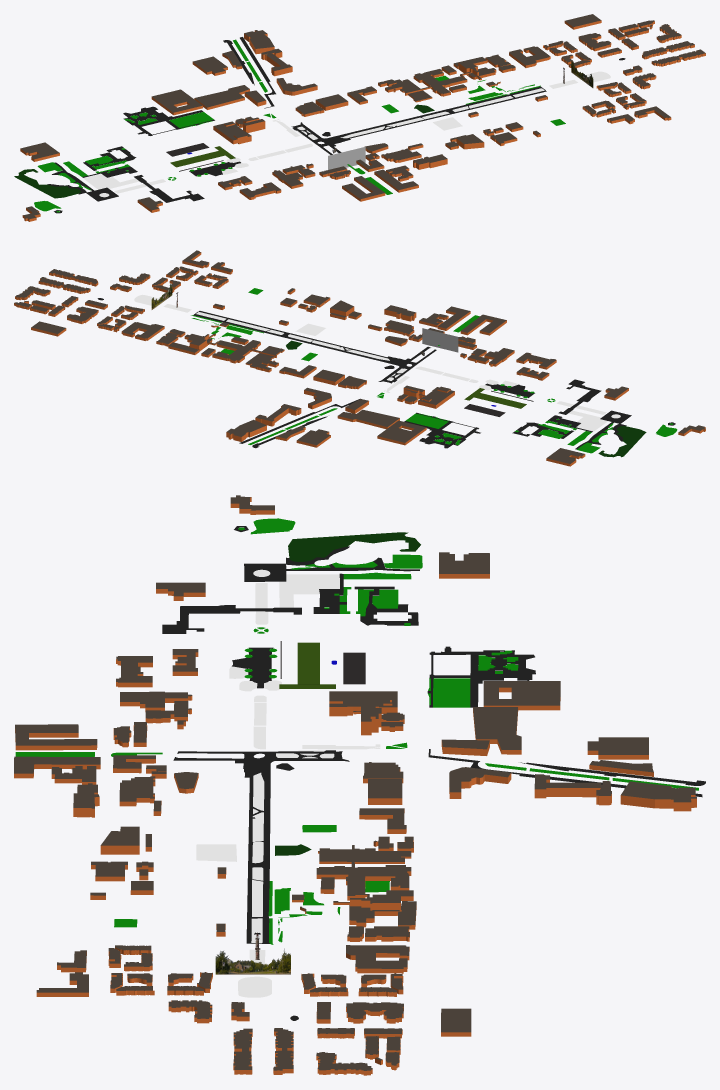
The model's file is MainMallOSM.obj.
3 views of the same model, one above another, from view 1: azimuth 30°, elevation 25°; view 2: azimuth 150°, elevation 25°; view 3: azimuth 270°, elevation 25° (orthographic). The views are drawn at different scales.
Parts seen in each view (by area): view 1: element_115_Scene.365, Old_Student_Union_Building__SUB__Scene.504, The_Nest__New_SUB__Scene.506, Civil_And_Mechanical_Engineering_Building_Scene.404, element_545_Scene.509, element_037_Scene.306, fountainWest_Scene.524, element_237_Scene.409, David_Strangway_Building_Scene.503, D_H__Copp_Building_Scene.502, Allard_Hall_Scene.303, element_017_Scene.321 (+16 smaller); view 2: element_115_Scene.365, Old_Student_Union_Building__SUB__Scene.504, The_Nest__New_SUB__Scene.506, Civil_And_Mechanical_Engineering_Building_Scene.404, element_545_Scene.509, fountainWest_Scene.524, element_037_Scene.306, David_Strangway_Building_Scene.503, D_H__Copp_Building_Scene.502, Allard_Hall_Scene.303, element_237_Scene.409, Hennings_Building_Scene.355 (+10 smaller); view 3: element_115_Scene.365, Old_Student_Union_Building__SUB__Scene.504, element_545_Scene.509, The_Nest__New_SUB__Scene.506, element_037_Scene.306, Civil_And_Mechanical_Engineering_Building_Scene.404, David_Strangway_Building_Scene.503, D_H__Copp_Building_Scene.502, War_Memorial_Gym_Scene.507, element_017_Scene.321, Civil_And_Mechanical_Lab_Scene.405, Allard_Hall_Scene.303 (+19 smaller).
Part boxes in pixels (box(x1,y1,x2,y2)): element_115_Scene.365: box(322, 86, 546, 146); Old_Student_Union_Building__SUB__Scene.504: box(151, 89, 202, 115); The_Nest__New_SUB__Scene.506: box(194, 85, 249, 109); Civil_And_Mechanical_Engineering_Building_Scene.404: box(413, 69, 467, 96); element_545_Scene.509: box(123, 106, 214, 135); element_037_Scene.306: box(14, 169, 80, 198); fountainWest_Scene.524: box(328, 146, 365, 169); element_237_Scene.409: box(509, 47, 550, 67); David_Strangway_Building_Scene.503: box(244, 30, 274, 54); D_H__Copp_Building_Scene.502: box(261, 48, 292, 76); Allard_Hall_Scene.303: box(20, 142, 59, 161); element_017_Scene.321: box(83, 174, 139, 189); element_115_Scene.365: box(193, 311, 410, 366); Old_Student_Union_Building__SUB__Scene.504: box(377, 420, 426, 445); The_Nest__New_SUB__Scene.506: box(337, 409, 399, 429); Civil_And_Mechanical_Engineering_Building_Scene.404: box(212, 340, 260, 363); element_545_Scene.509: box(416, 412, 480, 448); fountainWest_Scene.524: box(422, 328, 458, 352); element_037_Scene.306: box(598, 426, 646, 457); David_Strangway_Building_Scene.503: box(226, 419, 266, 441); D_H__Copp_Building_Scene.502: box(255, 404, 301, 426); Allard_Hall_Scene.303: box(546, 448, 585, 466); element_237_Scene.409: box(122, 322, 164, 340); Hennings_Building_Scene.355: box(418, 387, 454, 408); element_115_Scene.365: box(235, 760, 273, 943); Old_Student_Union_Building__SUB__Scene.504: box(483, 681, 560, 710); element_545_Scene.509: box(427, 646, 535, 707); The_Nest__New_SUB__Scene.506: box(473, 707, 521, 754); element_037_Scene.306: box(288, 532, 420, 561); Civil_And_Mechanical_Engineering_Building_Scene.404: box(316, 865, 411, 900); David_Strangway_Building_Scene.503: box(620, 781, 696, 811); D_H__Copp_Building_Scene.502: box(534, 774, 611, 805); War_Memorial_Gym_Scene.507: box(587, 737, 648, 759); element_017_Scene.321: box(279, 574, 339, 607); Civil_And_Mechanical_Lab_Scene.405: box(318, 848, 411, 863); Allard_Hall_Scene.303: box(439, 552, 489, 578).
Size of the model in its own units: 128 by 3.5 by 64.84.
